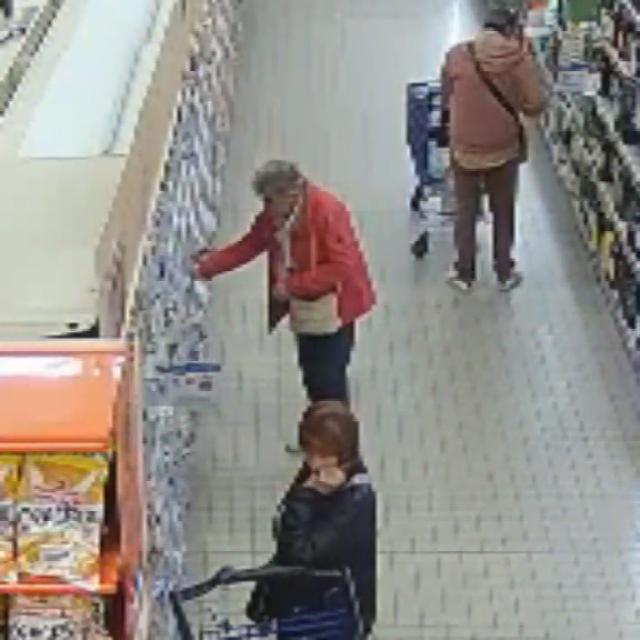bags: (468, 43, 528, 163), (290, 293, 340, 335)
hands: (304, 467, 346, 493), (193, 249, 213, 280), (272, 279, 289, 302)
person: (196, 160, 375, 402), (442, 8, 544, 291), (271, 401, 376, 636)
